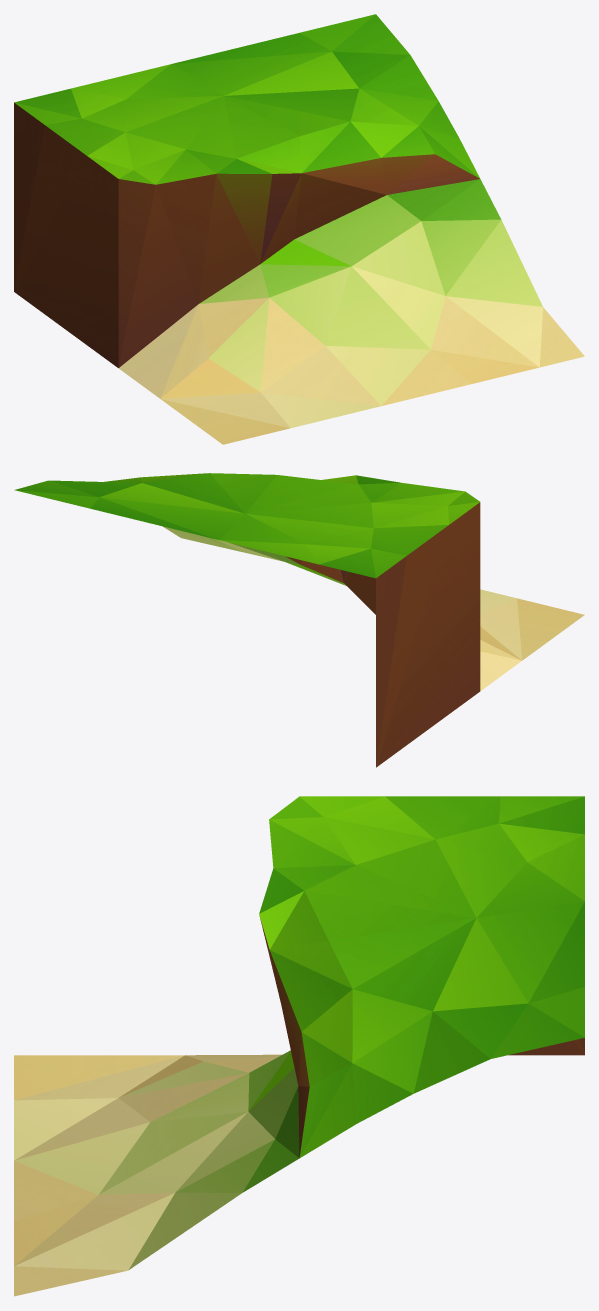
Rendered from GL-Terrain-part-16-LOD3.fbx.
The picture shows the model from 3 angles, top to bottom: view 1: azimuth 30°, elevation 25°; view 2: azimuth 150°, elevation 25°; view 3: azimuth 270°, elevation 25°; orthographic projection. The views are drawn at different scales.
Visible parts, largest first — view 1: GL_Terrain_part_16; view 2: GL_Terrain_part_16; view 3: GL_Terrain_part_16.
Part boxes in pixels (x1=…): GL_Terrain_part_16: x1=14, y1=14, x2=584, y2=444; GL_Terrain_part_16: x1=14, y1=473, x2=584, y2=767; GL_Terrain_part_16: x1=14, y1=796, x2=584, y2=1296.
Size of the model in its own units: 6 by 3 by 6.
